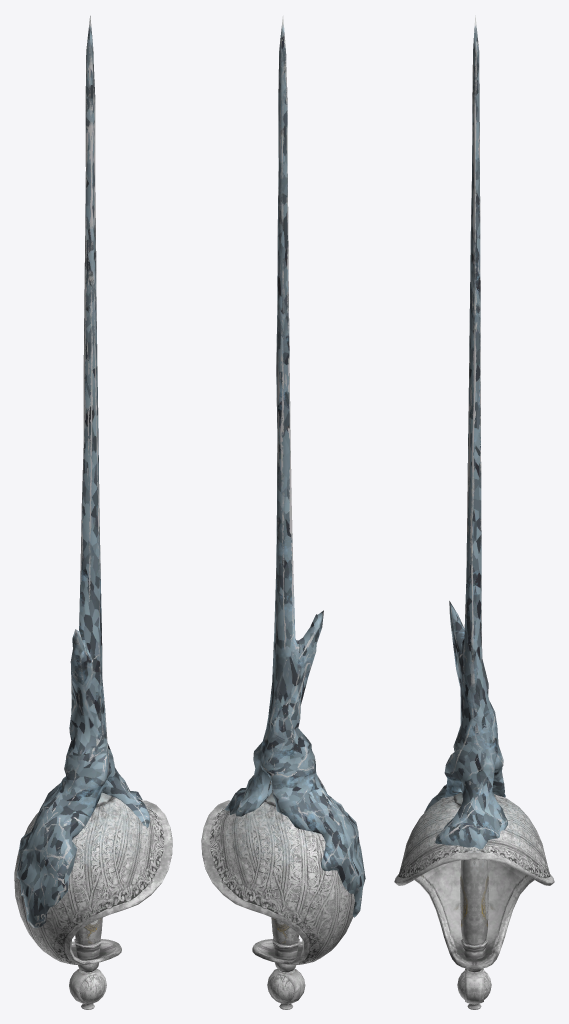
File: so_pd_frozenneedle.glb
3 views of the same model, side by side, from view 1: azimuth 30°, elevation 25°; view 2: azimuth 150°, elevation 25°; view 3: azimuth 270°, elevation 25° (orthographic).
Visible parts, largest first — view 1: FrozenNeedle; view 2: FrozenNeedle; view 3: FrozenNeedle.
Boxes of the visible parts, left/top/right/bottom form: FrozenNeedle: left=14, top=15, right=172, bottom=1009; FrozenNeedle: left=201, top=15, right=365, bottom=1009; FrozenNeedle: left=394, top=15, right=554, bottom=1009.
Bounding box in the file's own units: 10.86 × 73.15 × 10.68.
1 material, 1 textured.
